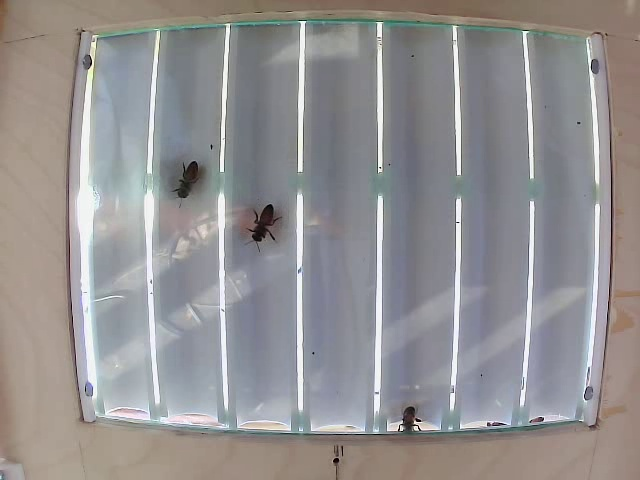bee: (241, 199, 282, 252), (166, 165, 204, 199), (396, 401, 429, 439)
